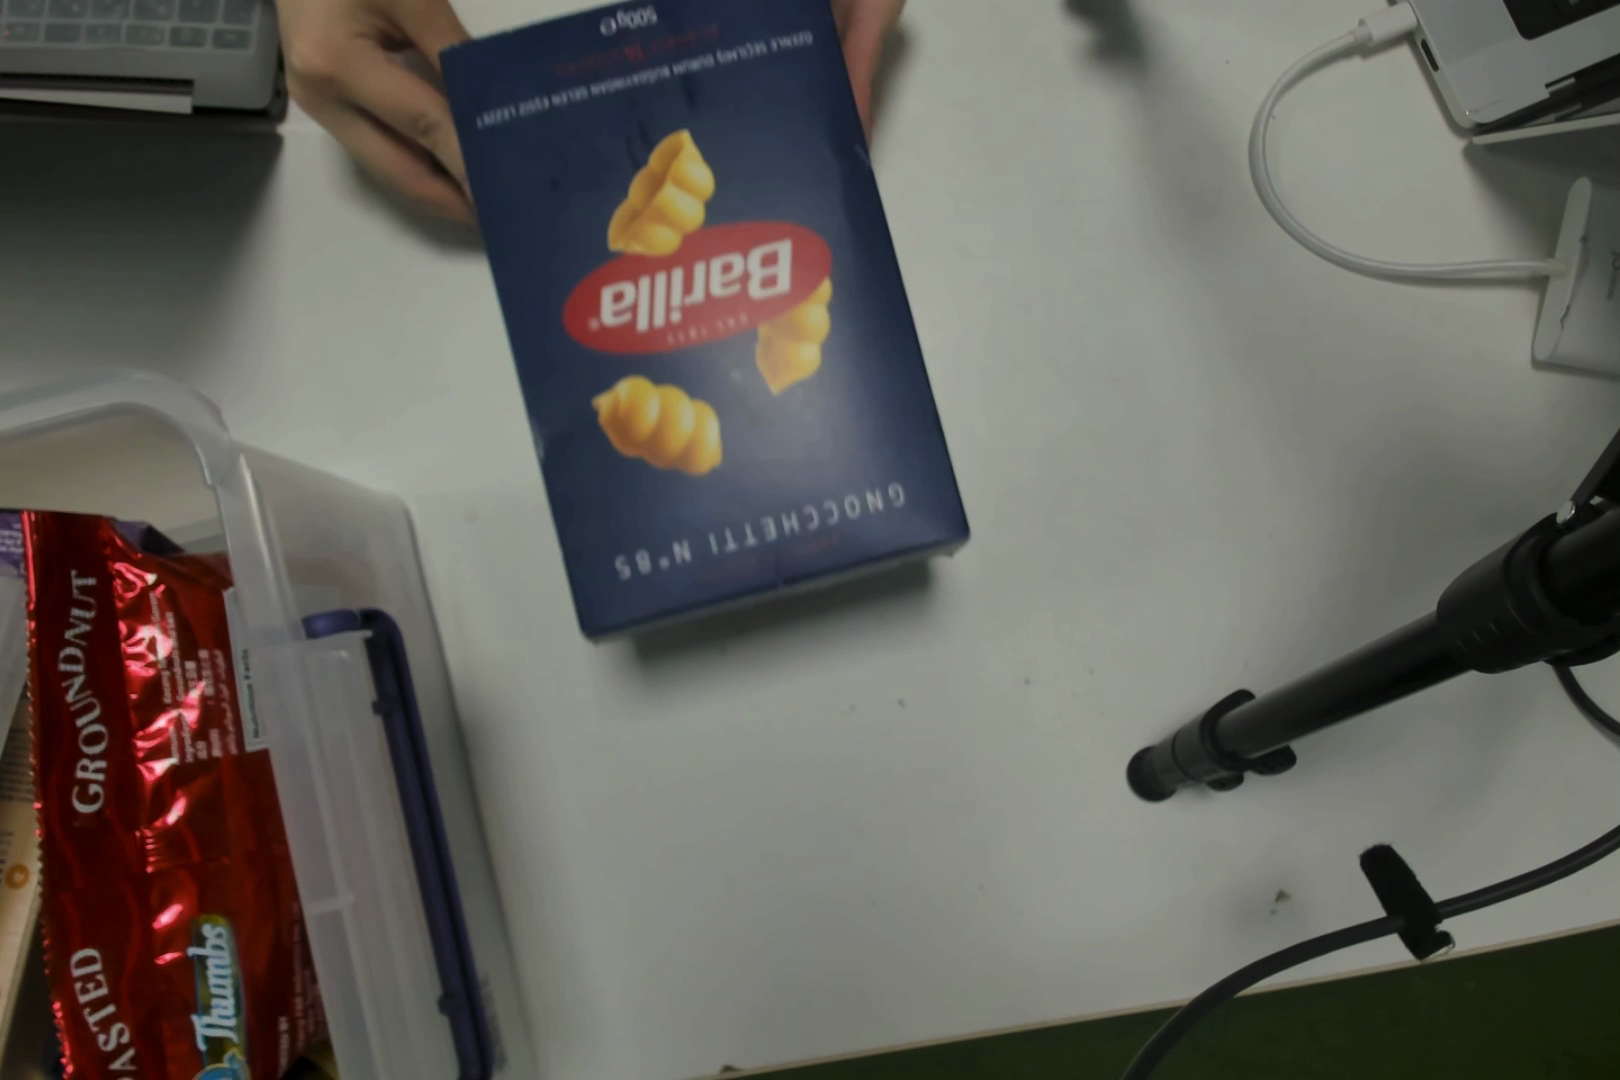Pasta_500-599g_NonHalal_NonHealthy: (526, 37, 949, 630)
